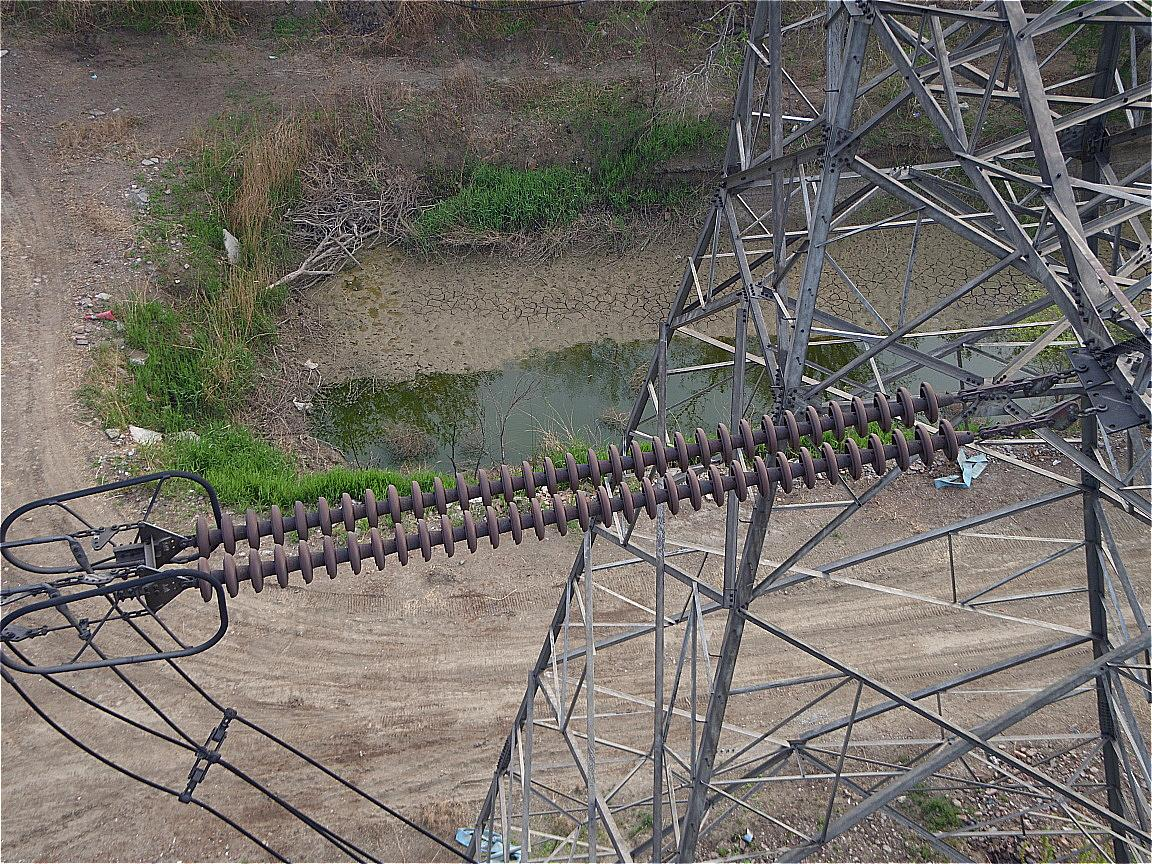insultor1: (190, 377, 961, 605)
